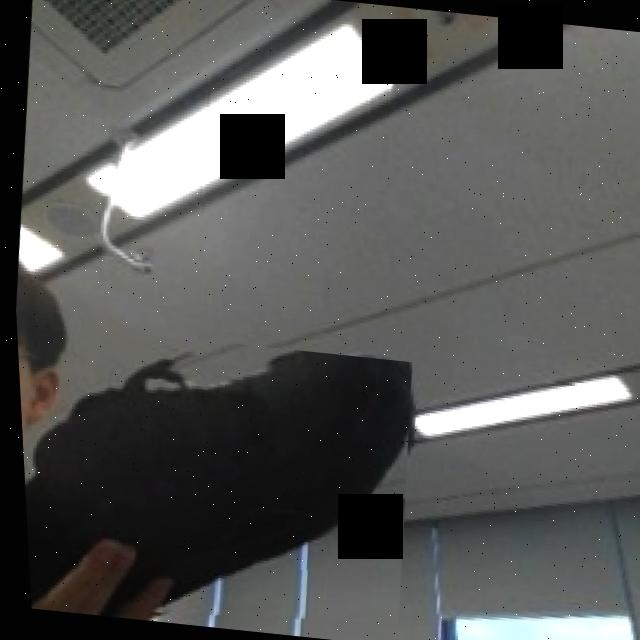shoe: (13, 320, 419, 640)
